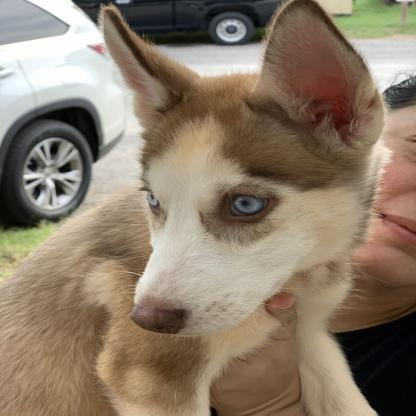husky: (0, 1, 387, 416)
